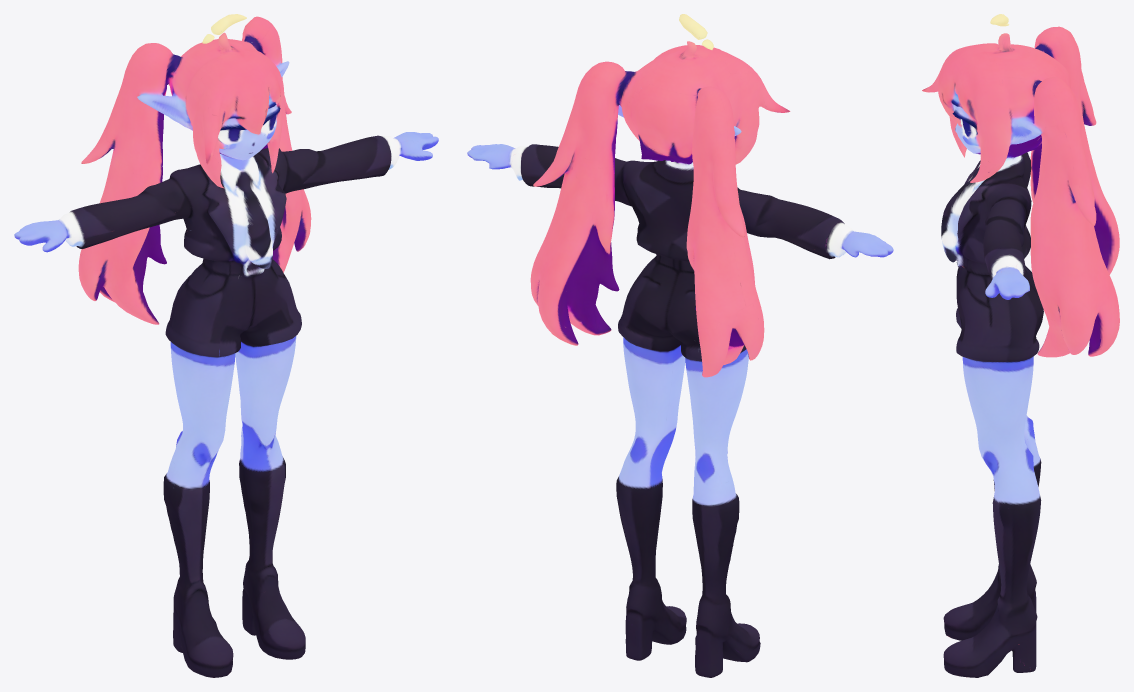
The model's file is BlueHalo.fbx.
The picture shows the model from 3 angles, left to right: view 1: azimuth 30°, elevation 25°; view 2: azimuth 150°, elevation 25°; view 3: azimuth 270°, elevation 25°; orthographic projection.
Parts seen in each view (by area): view 1: BodyClothes, Hair, Tie; view 2: BodyClothes, Hair; view 3: BodyClothes, Hair, Tie, EyeSurface_Left.
Boxes of the visible parts, left/top/right/bottom form: BodyClothes: left=14, top=36, right=438, bottom=677; Hair: left=78, top=16, right=311, bottom=324; Tie: left=234, top=171, right=270, bottom=258; BodyClothes: left=467, top=72, right=893, bottom=677; Hair: left=530, top=41, right=790, bottom=377; BodyClothes: left=942, top=44, right=1049, bottom=677; Hair: left=922, top=26, right=1119, bottom=357; Tie: left=941, top=167, right=979, bottom=239; EyeSurface_Left: left=952, top=109, right=977, bottom=140.
Size of the model in its own units: 131 by 189 by 53.4.
